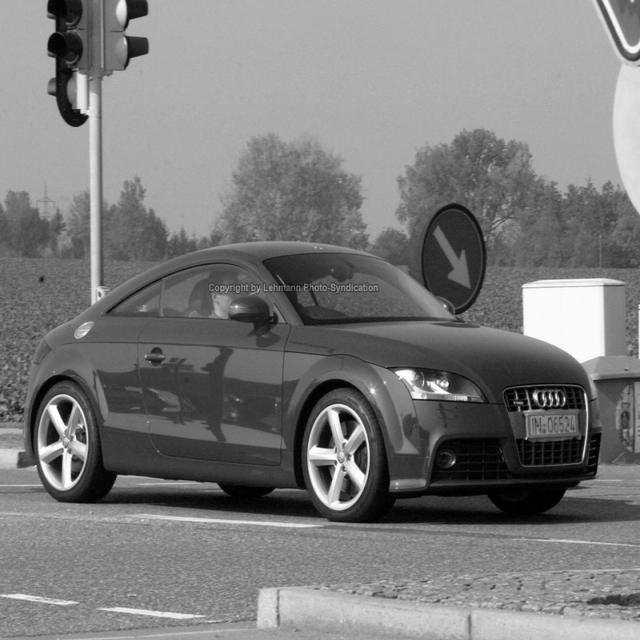car: (21, 208, 602, 522)
plat_license: (524, 407, 582, 445)
